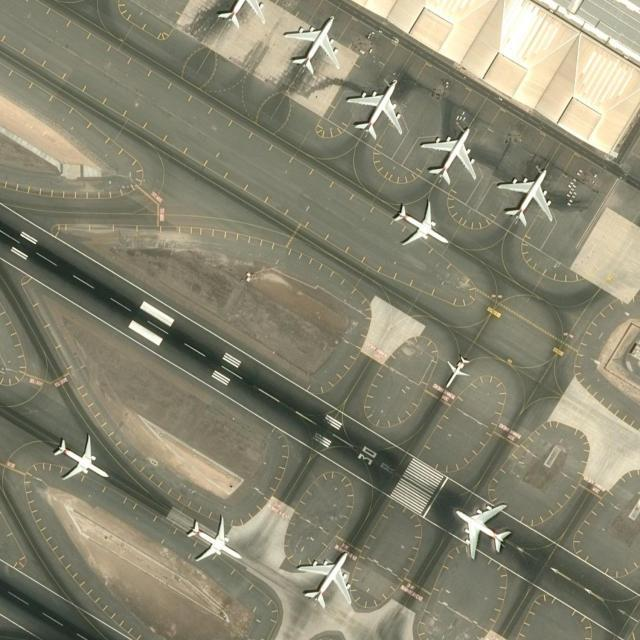Aircraft: (344, 75, 406, 141), (282, 9, 342, 77), (496, 163, 556, 227), (449, 497, 513, 557), (418, 120, 476, 184), (297, 545, 353, 611), (51, 433, 111, 486), (180, 514, 240, 566), (391, 194, 448, 248), (212, 1, 272, 29), (445, 351, 473, 387)
